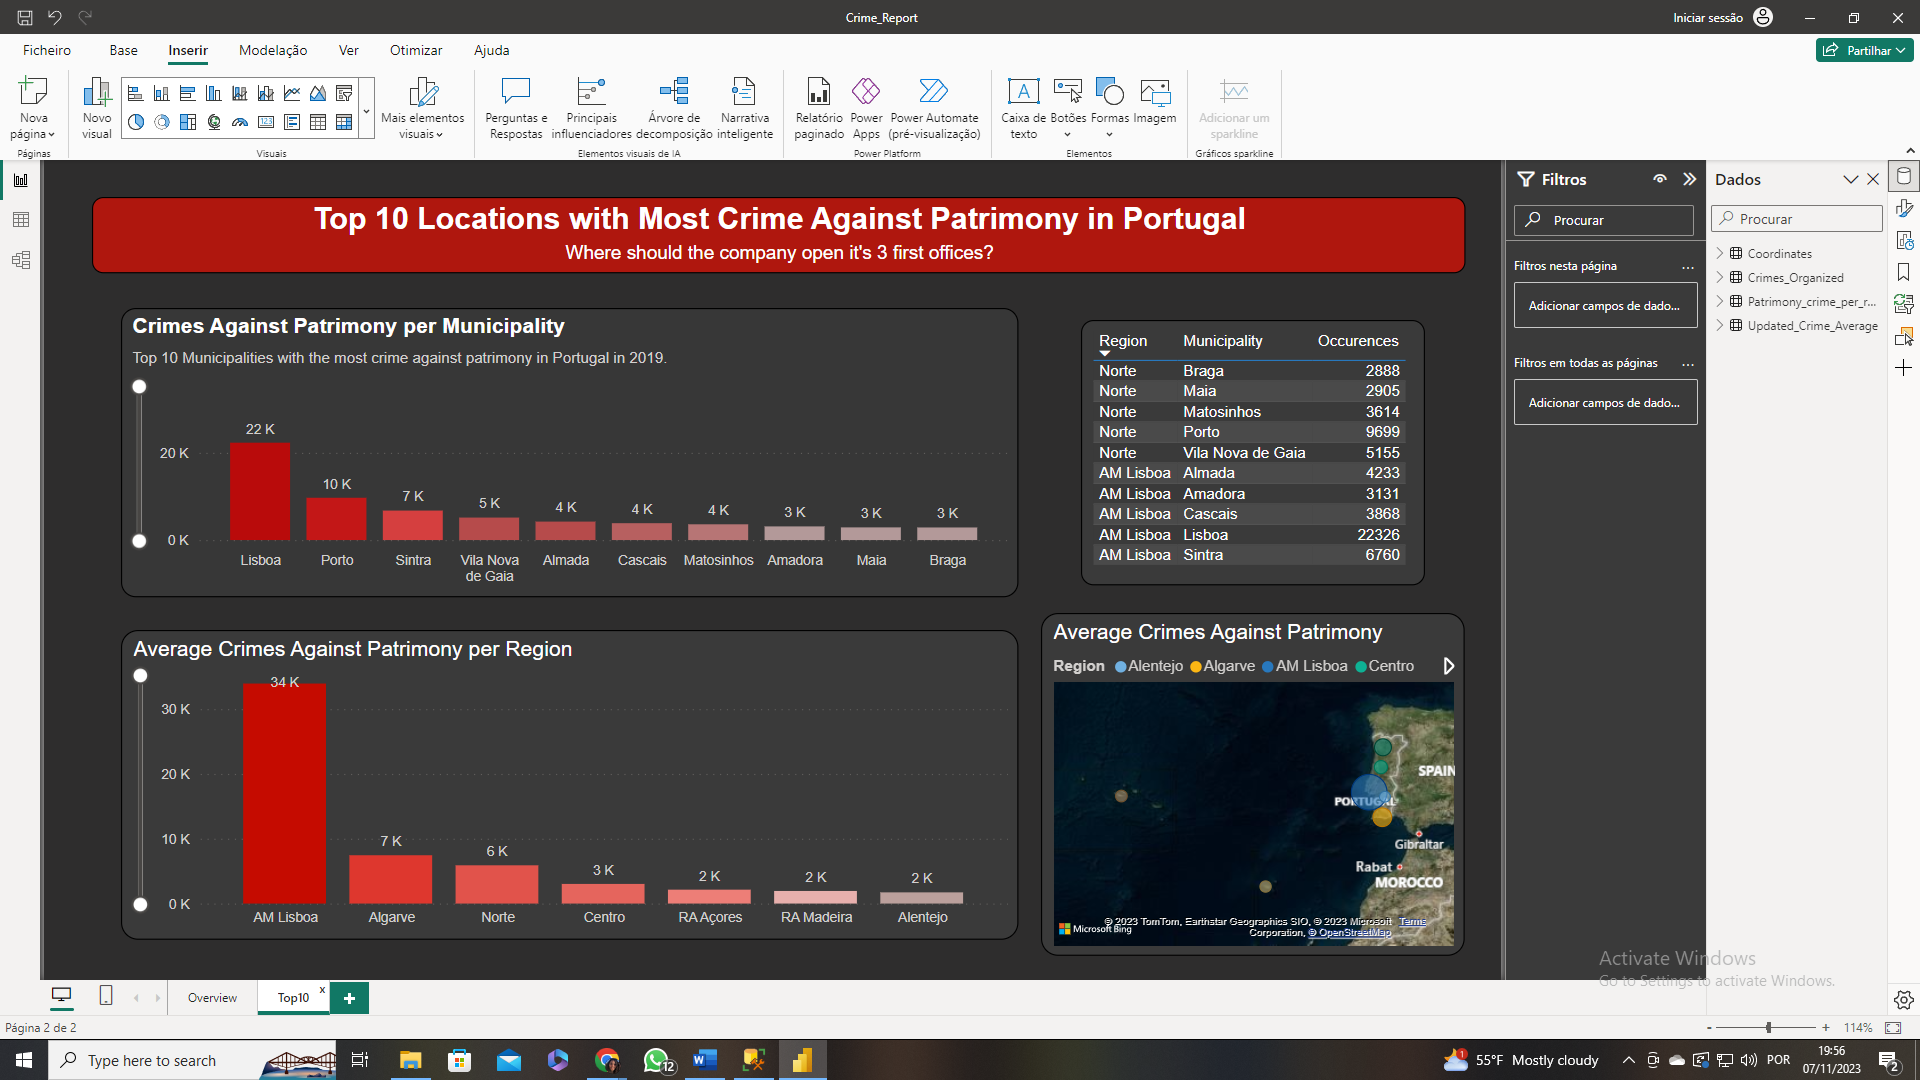

The page's visual inventory and layout, read from the dashboard file:
{"tool":"powerbi","page":{"name":"Top10","canvas":[1280,720],"ordinal":1},"visuals":[{"type":"clusteredColumnChart","title":"Crimes Against Patrimony per Municipality","fields":{"Category":["Arranged.MUNICIPALITY"],"Y":["Sum(Arranged. Crimes against patrimony)"]},"box":[60.6,137.9,875.4,483.8],"z":0},{"type":"tableEx","fields":{"Values":["Arranged.REGION","Arranged.MUNICIPALITY","Arranged. Crimes against patrimony","Arranged.Year.Variação.Hierarquia de Datas.Ano"]},"box":[957.1,245,299.4,281.9],"z":1000},{"type":"textbox","title":"Top 10 Locations with Most Crime Against Patrimony in Portugal","box":[42.1,32.5,1205.6,66.7],"z":2000}]}

Visuals, with their boxes on the page's 1280x720 design canvas (x1, y1, x2, y2). These are canvas units, not pixel positions in the 1920x1080 screenshot, which may show the page scaled, cropped or inside an application window:
"Crimes Against Patrimony per Municipality" clusteredColumnChart: pyautogui.locateOnScreen(61, 138, 936, 622)
tableEx - Arranged.REGION x Arranged.MUNICIPALITY: pyautogui.locateOnScreen(957, 245, 1256, 527)
"Top 10 Locations with Most Crime Against Patrimony in Portugal" textbox: pyautogui.locateOnScreen(42, 32, 1248, 99)
